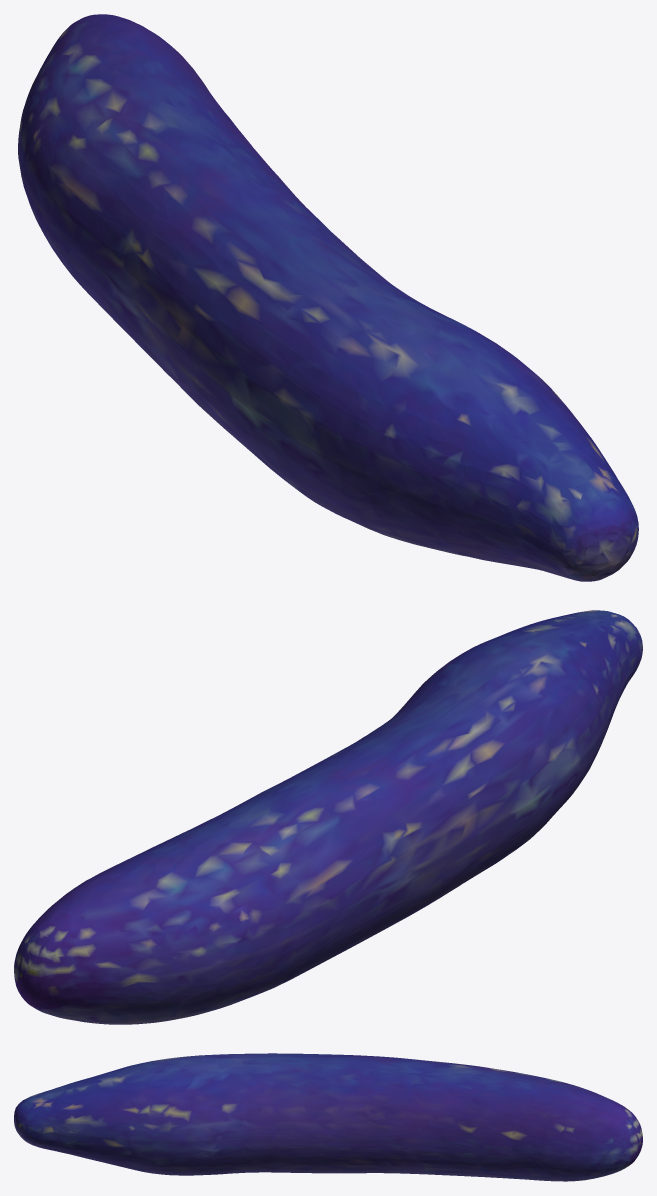
File: 5_mesh_cousin_08.glb
3 renders of one model, top to bottom at view 1: azimuth 30°, elevation 25°; view 2: azimuth 150°, elevation 25°; view 3: azimuth 270°, elevation 25°, orthographic. The views are drawn at different scales.
Parts seen in each view (by area): view 1: geometry_0; view 2: geometry_0; view 3: geometry_0.
Boxes of the visible parts, x1,y1,x2,y2 form: geometry_0: [18, 14, 638, 581]; geometry_0: [14, 610, 642, 1024]; geometry_0: [14, 1053, 642, 1181].
Size of the model in its own units: 0.2516 by 0.1883 by 0.9995.
